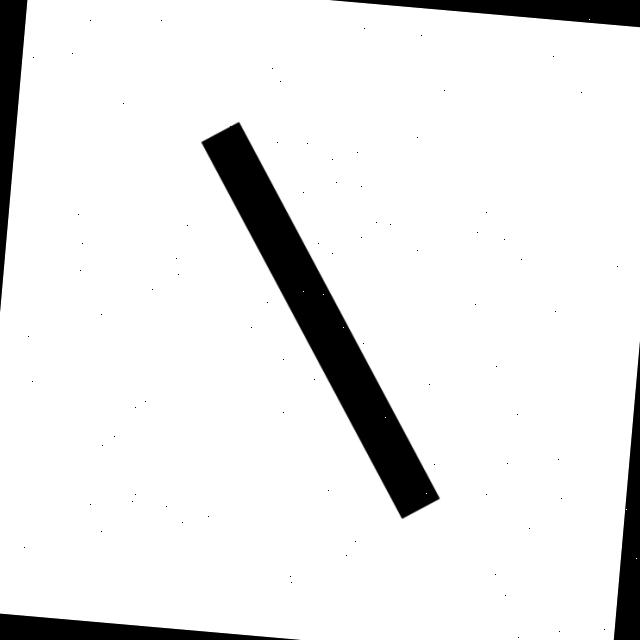line: (201, 122, 439, 518)
